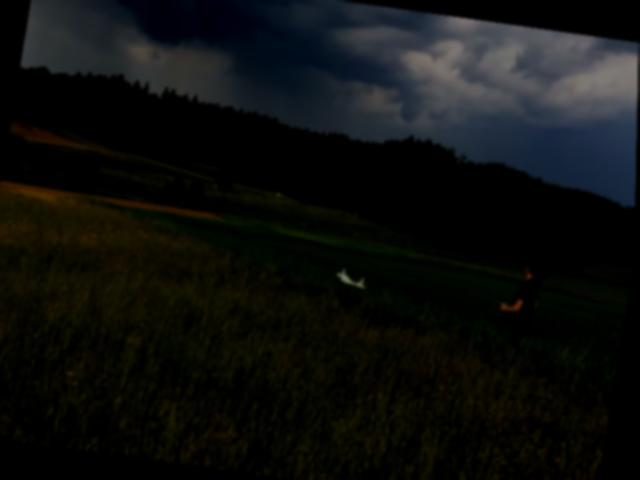plane: (335, 268, 369, 288)
